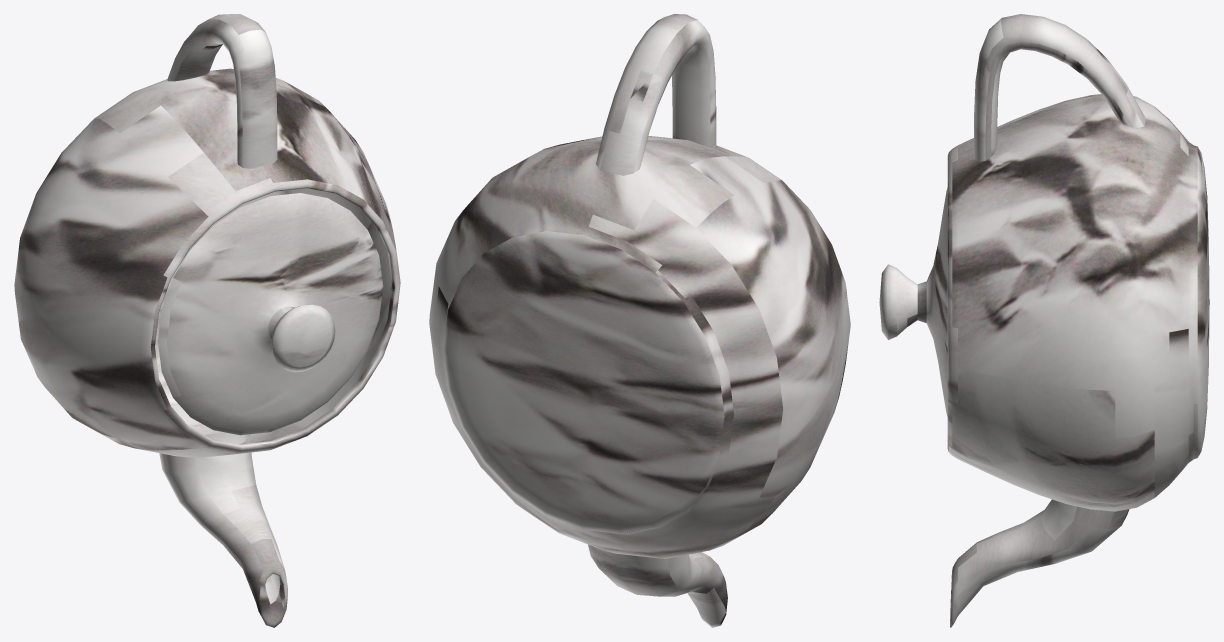
The model's file is teapot_textured.obj.
3 renders of one model, left to right at view 1: azimuth 30°, elevation 25°; view 2: azimuth 150°, elevation 25°; view 3: azimuth 270°, elevation 25°, orthographic. The views are drawn at different scales.
Parts seen in each view (by area): view 1: teapot; view 2: teapot; view 3: teapot.
Part boxes in pixels (x1,y1,x2,y2): teapot: (14,14,400,627); teapot: (429,14,850,627); teapot: (879,14,1209,627).
Bounding box in the file's own units: 4 × 6.43 × 3.15.
